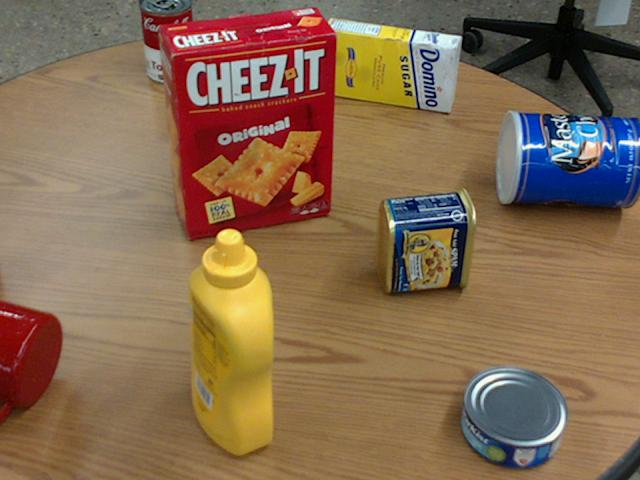cracker_box: (158, 8, 336, 238)
master_chef_can: (495, 110, 639, 207)
mug: (0, 298, 62, 420)
mustard_bottle: (187, 228, 271, 454)
potted_meat_can: (376, 186, 476, 292)
sugar_box: (321, 17, 463, 110)
tomato_soup_can: (140, 0, 196, 83)
tuna_fish_can: (459, 365, 565, 466)
